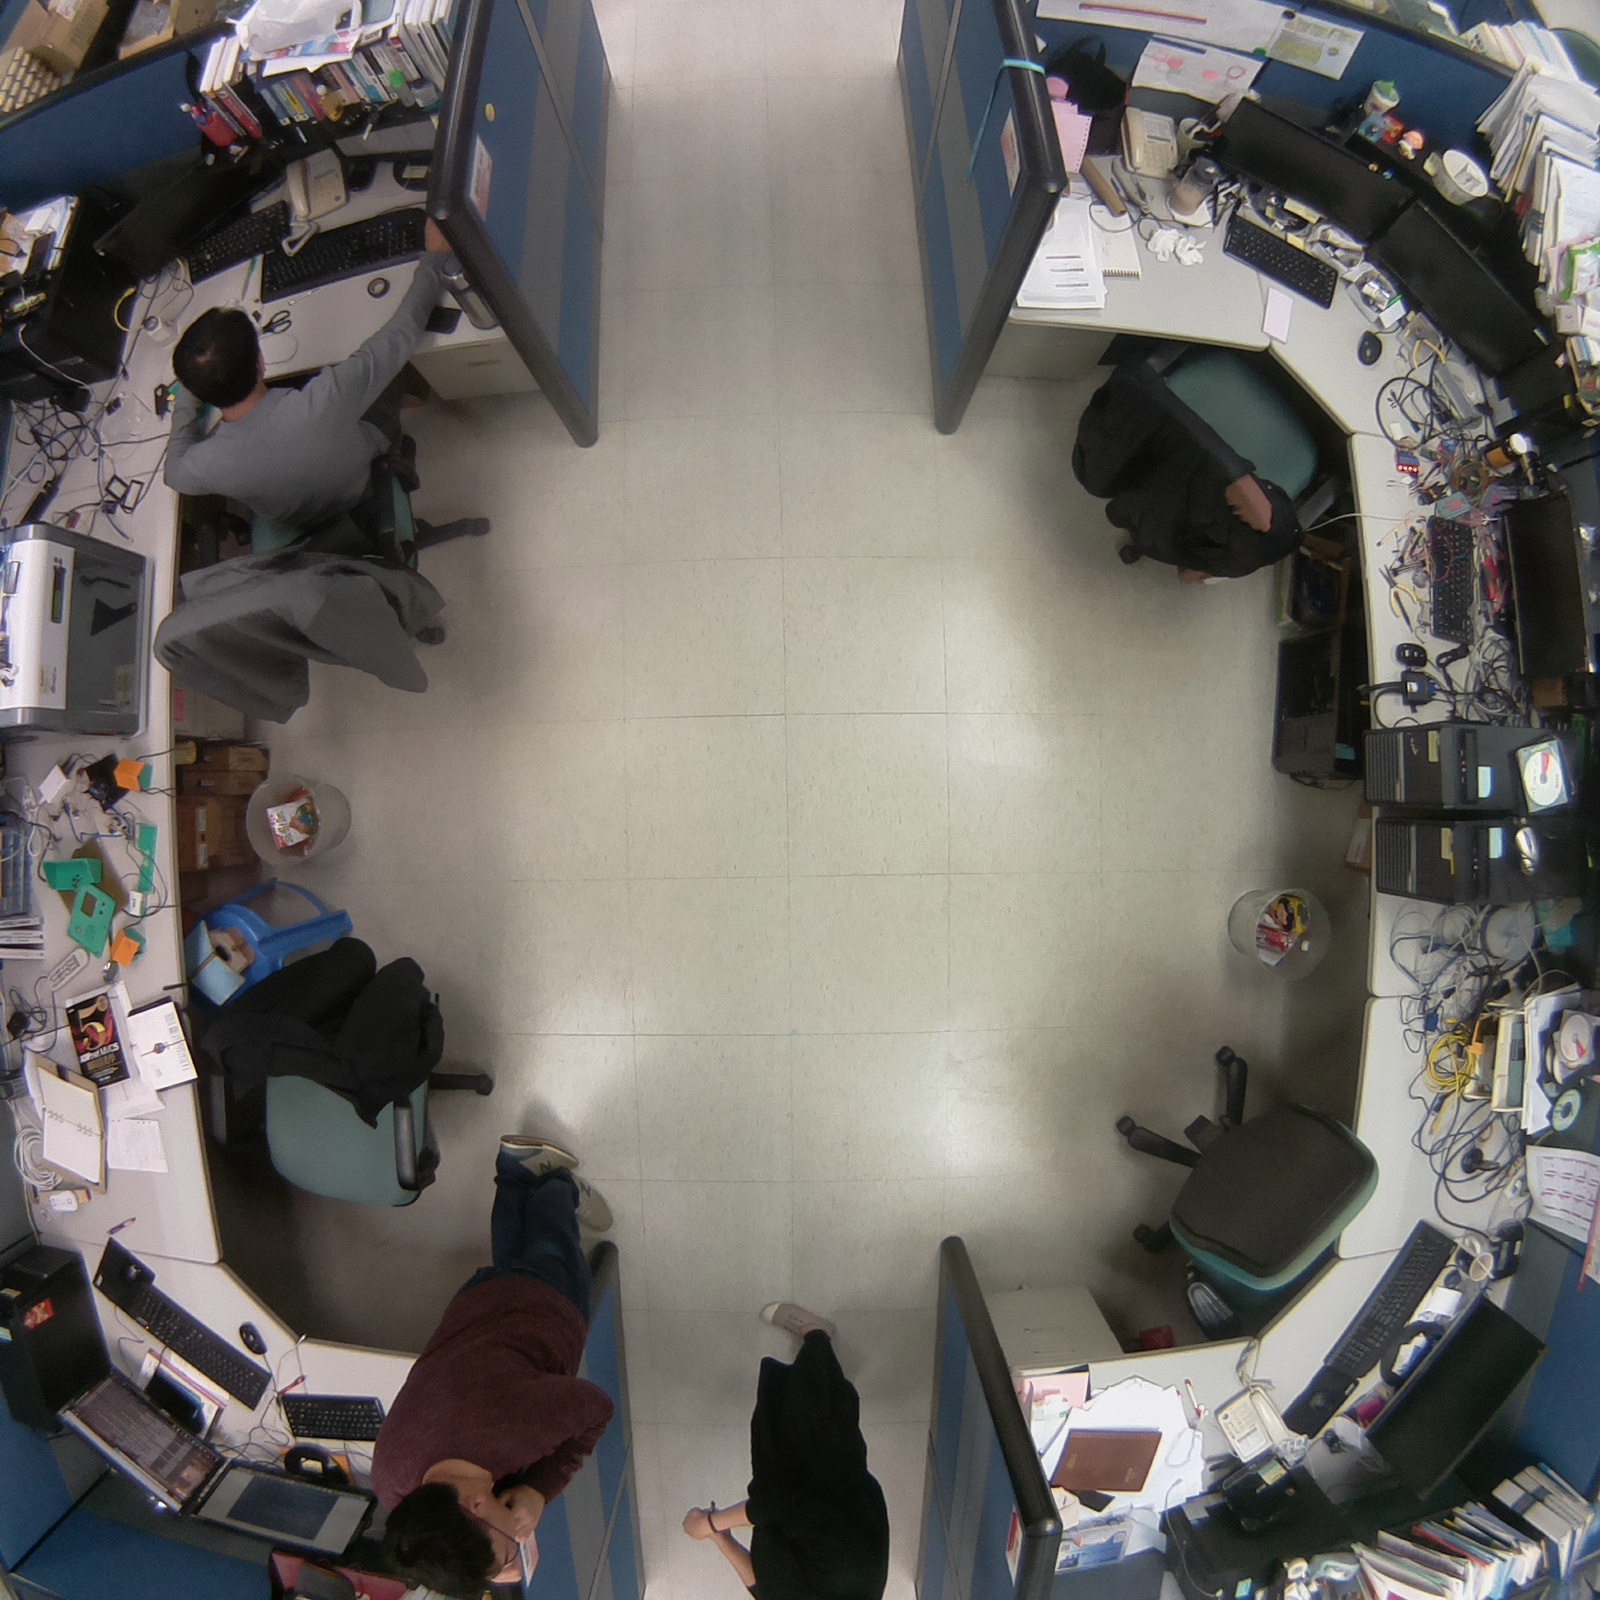chair: (188, 927, 514, 1224), (1091, 1032, 1391, 1342), (1063, 322, 1360, 596)
head: (376, 1468, 532, 1600), (166, 300, 276, 412)
sitting: (140, 311, 512, 747)
standing: (363, 1114, 628, 1600), (722, 1295, 896, 1600)
